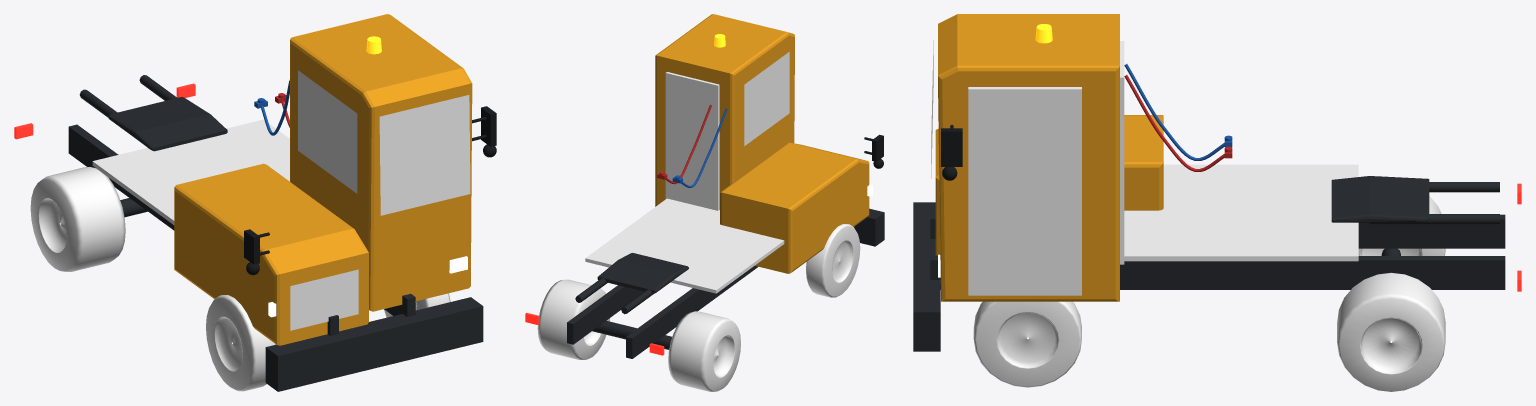
File: fleet--yardHustler.glb
The picture shows the model from 3 angles, left to right: view 1: azimuth 30°, elevation 25°; view 2: azimuth 150°, elevation 25°; view 3: azimuth 270°, elevation 25°; orthographic projection. The views are drawn at different scales.
Visible parts, largest first — view 1: yardHustler:shell, axle2, fifthWheel, wheelFR, mirrorL, mirrorR, tailLights, gladHandService; view 2: yardHustler:shell, axle2, doorRear, wheelFR, fifthWheel, mirrorR, gladHandService, gladHandEmergency; view 3: yardHustler:shell, doorL, axle2, wheelFL, fifthWheel, doorRear, mirrorL, gladHandEmergency, gladHandService.
Boxes of the visible parts, bbox=[...] form: yardHustler:shell: bbox=[68, 14, 483, 391]; axle2: bbox=[30, 167, 125, 271]; fifthWheel: bbox=[79, 75, 227, 151]; wheelFR: bbox=[206, 295, 275, 391]; mirrorL: bbox=[472, 106, 496, 157]; mirrorR: bbox=[244, 229, 269, 275]; tailLights: bbox=[14, 83, 195, 139]; gladHandService: bbox=[254, 80, 289, 135]; yardHustler:shell: bbox=[567, 14, 884, 358]; axle2: bbox=[537, 279, 740, 391]; doorRear: bbox=[665, 72, 719, 210]; wheelFR: bbox=[806, 224, 860, 297]; fifthWheel: bbox=[575, 253, 688, 314]; mirrorR: bbox=[864, 134, 883, 168]; gladHandService: bbox=[672, 108, 727, 187]; gladHandEmergency: bbox=[657, 104, 711, 184]; yardHustler:shell: bbox=[913, 14, 1505, 351]; doorL: bbox=[968, 87, 1081, 295]; axle2: bbox=[1337, 196, 1445, 391]; wheelFL: bbox=[973, 301, 1081, 387]; fifthWheel: bbox=[1331, 176, 1499, 224]; doorRear: bbox=[1120, 41, 1124, 264]; mirrorL: bbox=[941, 125, 962, 180]; gladHandEmergency: bbox=[1124, 75, 1232, 171]; gladHandService: bbox=[1124, 64, 1232, 160].
Size of the model in its own units: 2.91 by 3.43 by 5.61.
